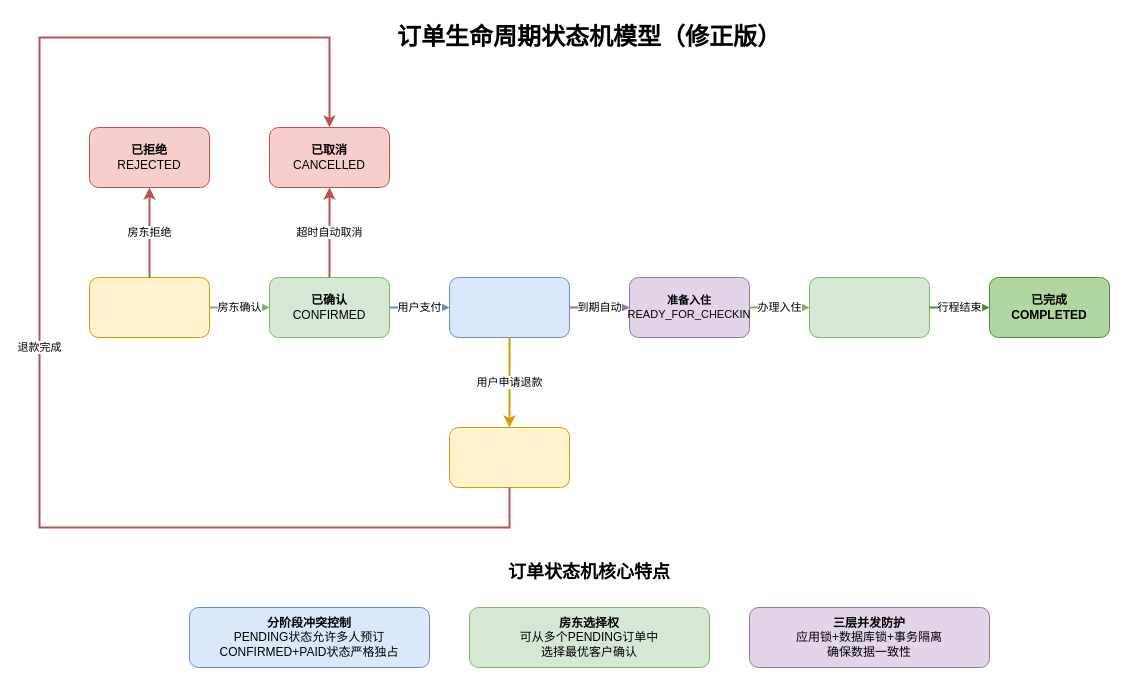
Image size: 1127x685. Some labels were removed from this diagram. Each missing label, with the centre of its shape:
已入住 CHECKED_IN: (x=869, y=307)
已支付 PAID: (x=509, y=307)
待确认 PENDING: (x=149, y=307)
退款中 REFUNDING: (x=509, y=457)
